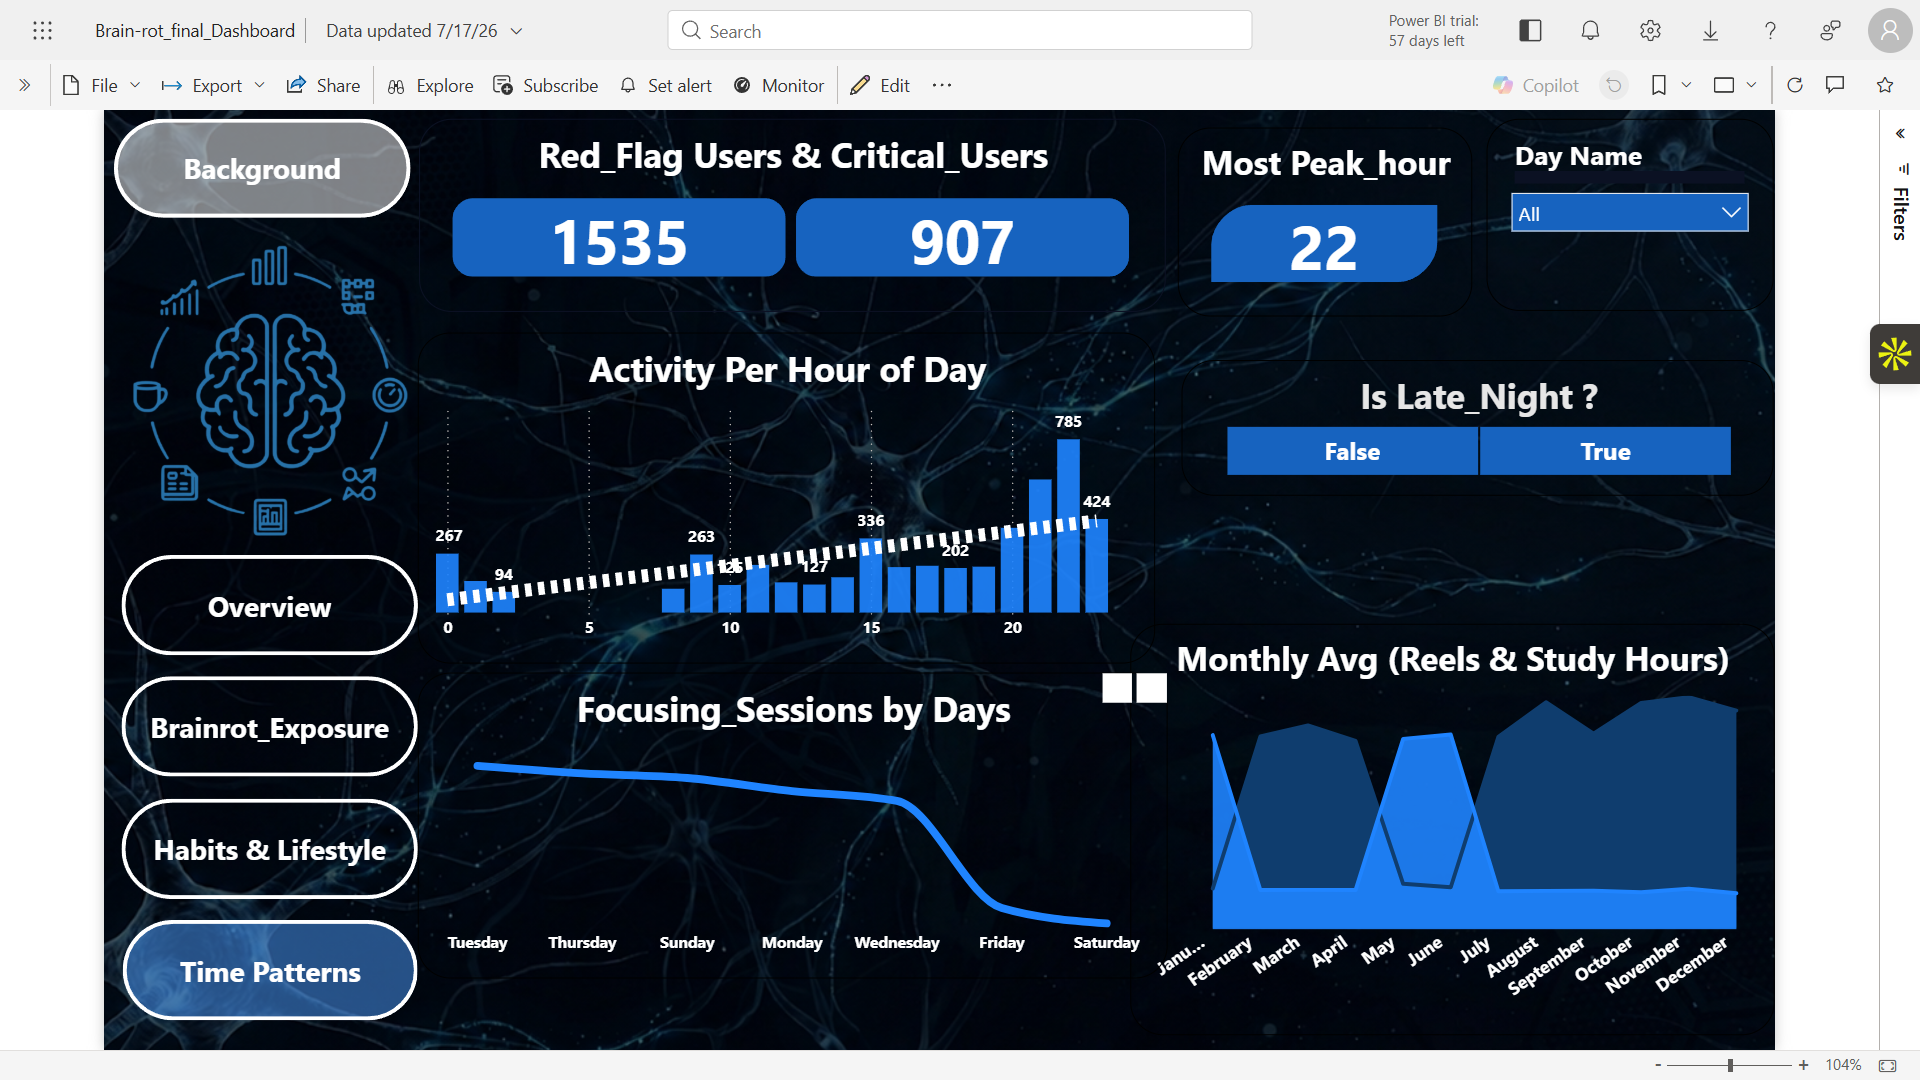

The page's visual inventory and layout, read from the dashboard file:
{"tool":"powerbi","page":{"name":"Time_Patterns","canvas":[1280,720],"ordinal":4},"visuals":[{"type":"group","id":"g1","title":"Time_Patterns","box":[8,6.7,1271.4,701.7],"z":0},{"type":"clusteredColumnChart","title":"Activity Per Hour of Day","fields":{"Y":["CountNonNull(Fact_User_Activity.ActivityID)"],"Category":["Fact_User_Activity.Peak_Hour"]},"box":[240.8,170.4,565.1,253.9],"z":0,"group":"g1"},{"type":"group","id":"g2","title":"Constants","box":[13.7,340.7,227,356.3],"z":0,"group":"g4"},{"type":"group","id":"g3","title":"Constant","box":[13.7,340.7,227,356.3],"z":0,"group":"g2"},{"type":"actionButton","title":"Geographic Intel","box":[13.7,340.7,227,76.8],"z":0,"group":"g3"},{"type":"group","id":"g4","title":"Group 1","box":[8,6.7,232.7,690.3],"z":1000,"group":"g1"},{"type":"actionButton","title":"Backround","box":[8,6.7,227.1,75.7],"z":1000,"group":"g4"},{"type":"image","box":[16.7,96.8,222.6,237.1],"z":1000},{"type":"actionButton","title":"Time Patterns","box":[13.7,433.9,227,76.8],"z":1000,"group":"g3"},{"type":"cardVisual","title":"Red_Flag Users & Critical_Users","fields":{"Data":["Dim_Date.Red_Flag Users","Dim_Date.Critical_Users"]},"box":[242,6.7,571.9,148.1],"z":2000,"group":"g1"},{"type":"actionButton","title":"Brainrot_Exposure","box":[14.7,620.2,226,76.8],"z":2000,"group":"g3"},{"type":"actionButton","title":"Overview","box":[13.7,527,227,76.8],"z":3000,"group":"g3"},{"type":"areaChart","title":"Monthly Avg (Reels & Study Hours)","fields":{"Category":["Dim_Date.FullDate.Variation.Date Hierarchy.Month"],"Y":["Avg(Fact_User_Activity.Total_Reels_Watched)"],"Y2":["Avg(Fact_User_Activity.Study_Hours)"]},"box":[786.1,393,493.3,315.3],"z":4000,"group":"g1"},{"type":"slicer","title":"Is Late_Night ?","fields":{"Values":["Dim_Date.Is_Late_Night"]},"box":[825.4,191.8,454,104.3],"z":5000,"group":"g1"},{"type":"slicer","title":"AgeGroup_Slicer","fields":{"Values":["Dim_Date.Day Name"]},"box":[1059.6,6.8,219.7,147],"z":6000,"group":"g1"},{"type":"lineChart","title":"Focusing_Sessions by Days ","fields":{"Category":["Dim_Date.Day Name"],"Y":["Avg(Fact_User_Activity.Focus_Sessions_Count)"]},"box":[240.5,431.1,574.2,234.5],"z":7000,"group":"g1"},{"type":"cardVisual","title":"Most Peak_hour","fields":{"Data":["Dim_Date.Most Peak Hour"]},"box":[822.2,13.4,226,144.7],"z":8000}]}

Visuals, with their boxes on the page's 1280x720 design canvas (x1, y1, x2, y2). These are canvas units, not pixel positions in the 1920x1080 screenshot, which may show the page scaled, cropped or inside an application window:
"Time_Patterns" group: Rect(8, 7, 1279, 708)
"Activity Per Hour of Day" clusteredColumnChart: Rect(241, 170, 806, 424)
"Constants" group: Rect(14, 341, 241, 697)
"Constant" group: Rect(14, 341, 241, 697)
"Geographic Intel" actionButton: Rect(14, 341, 241, 418)
"Group 1" group: Rect(8, 7, 241, 697)
"Backround" actionButton: Rect(8, 7, 235, 82)
image: Rect(17, 97, 239, 334)
"Time Patterns" actionButton: Rect(14, 434, 241, 511)
"Red_Flag Users & Critical_Users" cardVisual: Rect(242, 7, 814, 155)
"Brainrot_Exposure" actionButton: Rect(15, 620, 241, 697)
"Overview" actionButton: Rect(14, 527, 241, 604)
"Monthly Avg (Reels & Study Hours)" areaChart: Rect(786, 393, 1279, 708)
"Is Late_Night ?" slicer: Rect(825, 192, 1279, 296)
"AgeGroup_Slicer" slicer: Rect(1060, 7, 1279, 154)
"Focusing_Sessions by Days " lineChart: Rect(240, 431, 815, 666)
"Most Peak_hour" cardVisual: Rect(822, 13, 1048, 158)
